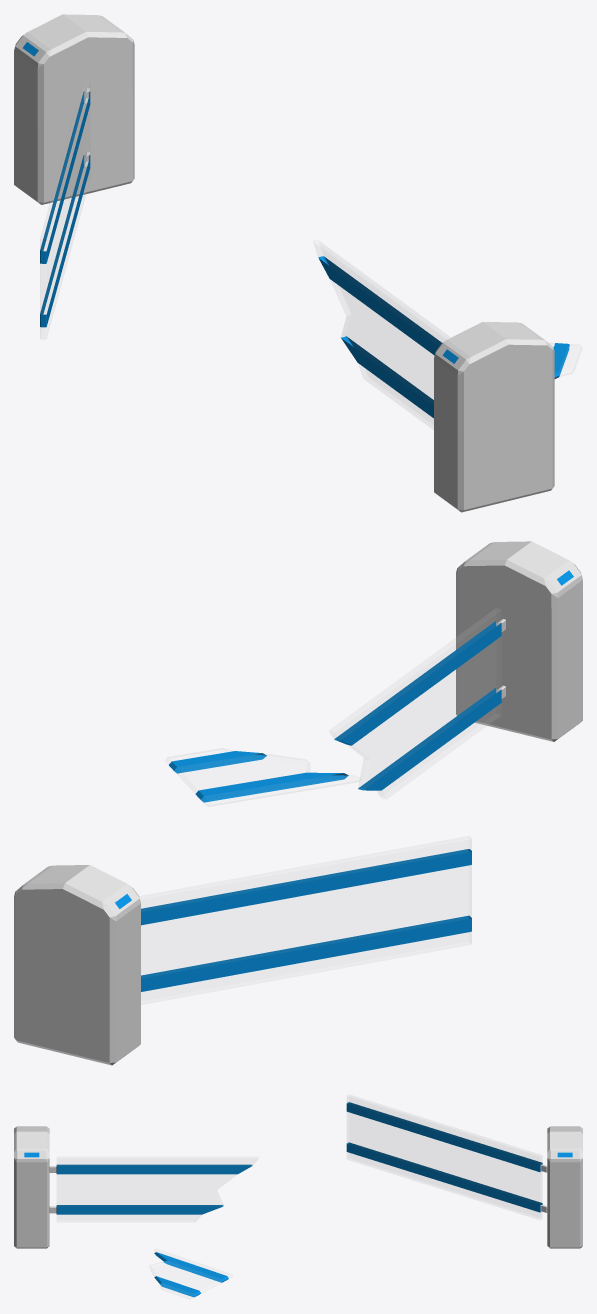
Rendered from Portique.fbx.
The picture shows the model from 3 angles, top to bottom: view 1: azimuth 30°, elevation 25°; view 2: azimuth 150°, elevation 25°; view 3: azimuth 270°, elevation 25°; orthographic projection. The views are drawn at different scales.
Visible parts, largest first — view 1: Portique, Portique.001, Porte, Porte.001, Porte.002; view 2: Porte.001, Portique.001, Portique, Porte, Porte.002; view 3: Porte.001, Porte, Portique, Portique.001, Porte.002.
Boxes of the visible parts, bbox=[...] form: Portique: bbox=[434, 322, 554, 512]; Portique.001: bbox=[14, 14, 134, 204]; Porte: bbox=[313, 240, 450, 429]; Porte.001: bbox=[40, 79, 90, 338]; Porte.002: bbox=[550, 343, 581, 378]; Porte.001: bbox=[140, 836, 471, 1004]; Portique.001: bbox=[14, 865, 140, 1065]; Portique: bbox=[456, 541, 582, 741]; Porte: bbox=[329, 609, 505, 798]; Porte.002: bbox=[165, 748, 359, 806]; Porte.001: bbox=[346, 1095, 547, 1219]; Porte: bbox=[49, 1157, 258, 1221]; Portique: bbox=[14, 1126, 49, 1248]; Portique.001: bbox=[547, 1126, 582, 1248]; Porte.002: bbox=[149, 1249, 232, 1298].
Size of the model in its own units: 429 by 160 by 800.
